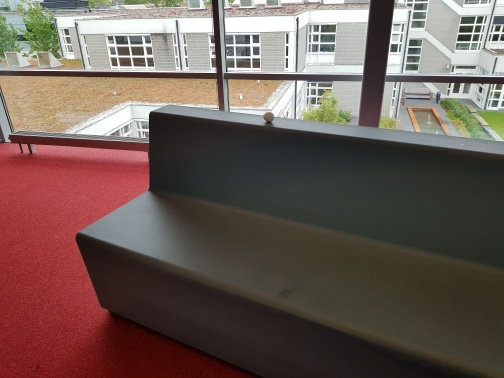egg: (261, 111, 277, 123)
